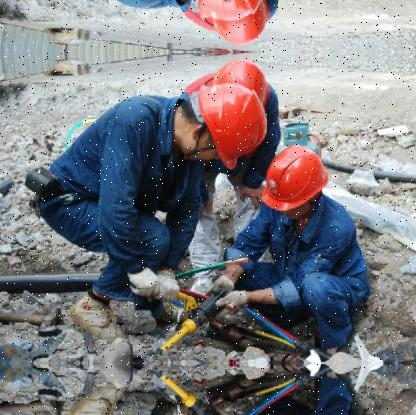helmet: (184, 82, 274, 167), (260, 138, 333, 221), (203, 54, 271, 107), (203, 0, 272, 49), (184, 0, 275, 21)
